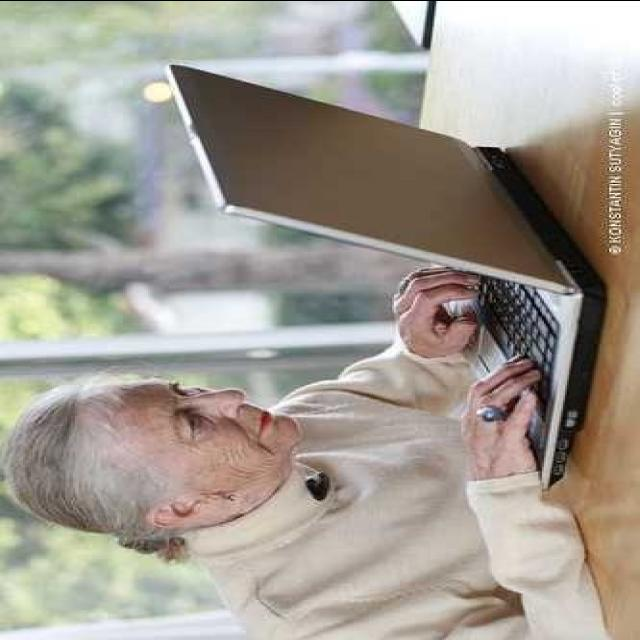laptop: (162, 37, 588, 469)
